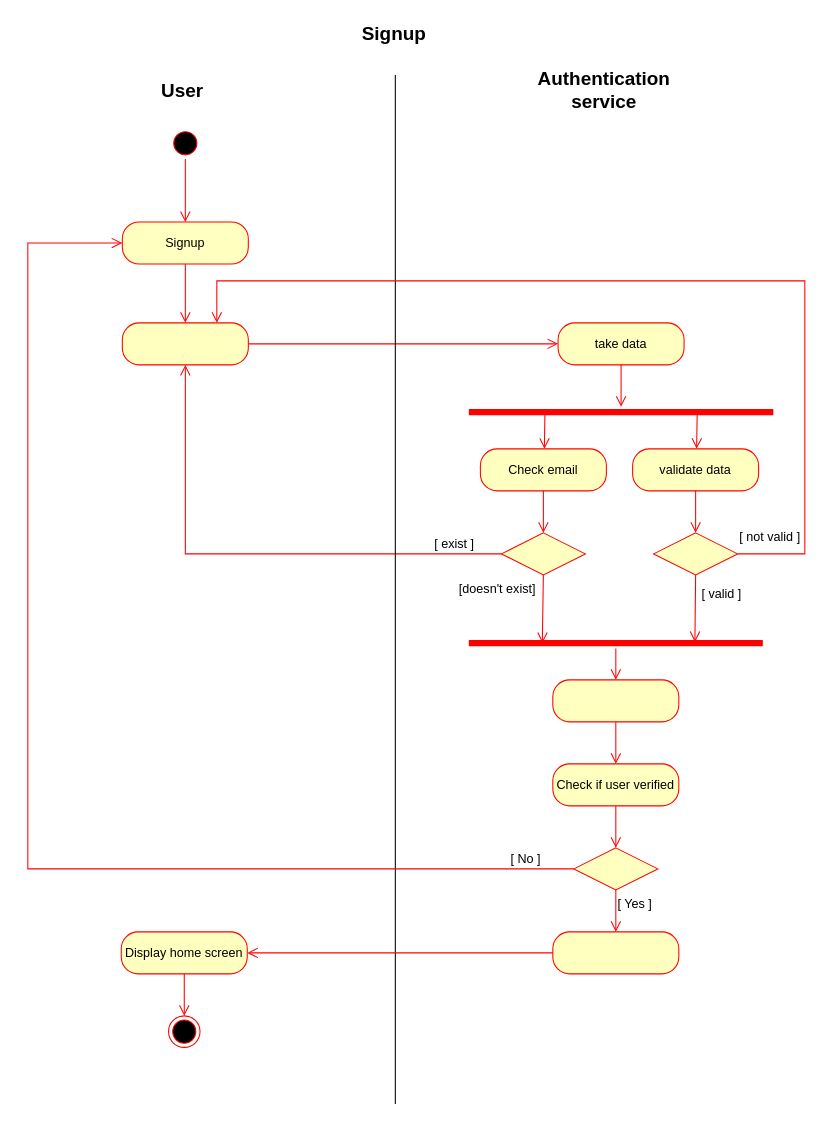
This 834x1124 diagram has some shape labels left out. Each missing label, with the box of its shape:
Fill signup form: (121, 322, 248, 365)
Send verification email: (552, 679, 679, 722)
Store info in data base: (552, 931, 679, 974)
